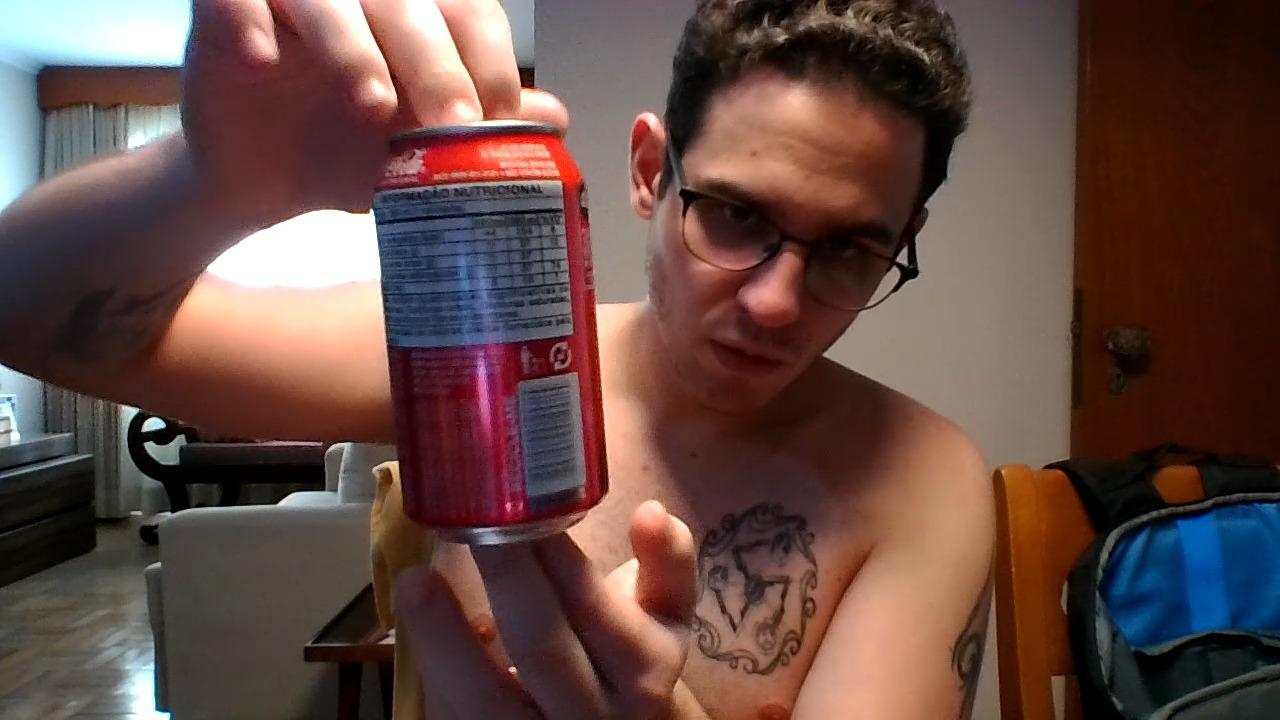coke: (377, 144, 598, 536)
